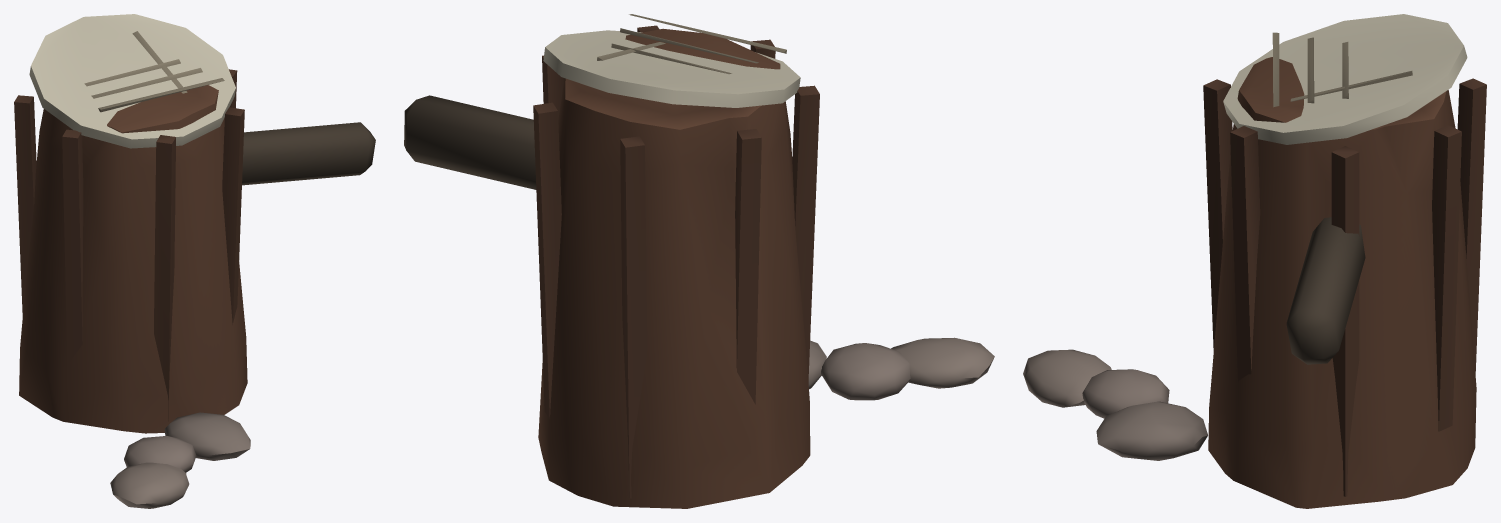
Rendered from chart_post_b_lod1.glb.
3 views of the same model, side by side, from view 1: azimuth 30°, elevation 25°; view 2: azimuth 150°, elevation 25°; view 3: azimuth 270°, elevation 25° (orthographic). The views are drawn at different scales.
Visible parts, largest first — view 1: Surface.001; view 2: Surface.001; view 3: Surface.001.
Boxes of the visible parts, <box> form: Surface.001: <box>14,14,375,508</box>; Surface.001: <box>404,14,994,508</box>; Surface.001: <box>1023,14,1486,508</box>.
Size of the model in its own units: 1.44 by 1.32 by 1.34.
